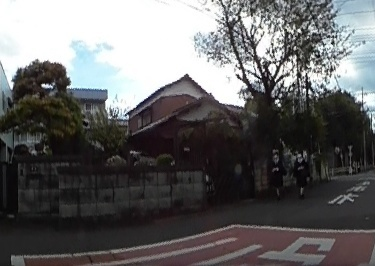person: (290, 152, 311, 192), (269, 149, 285, 193)
